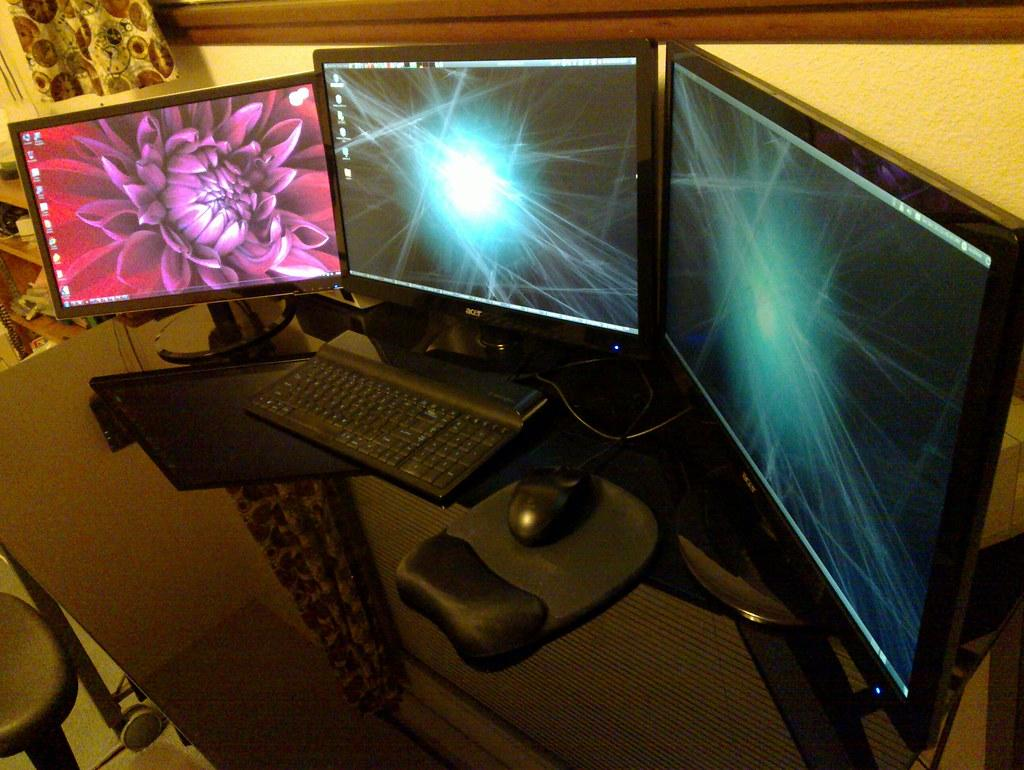computer: (659, 39, 1023, 753), (312, 39, 660, 390), (8, 70, 348, 368)
